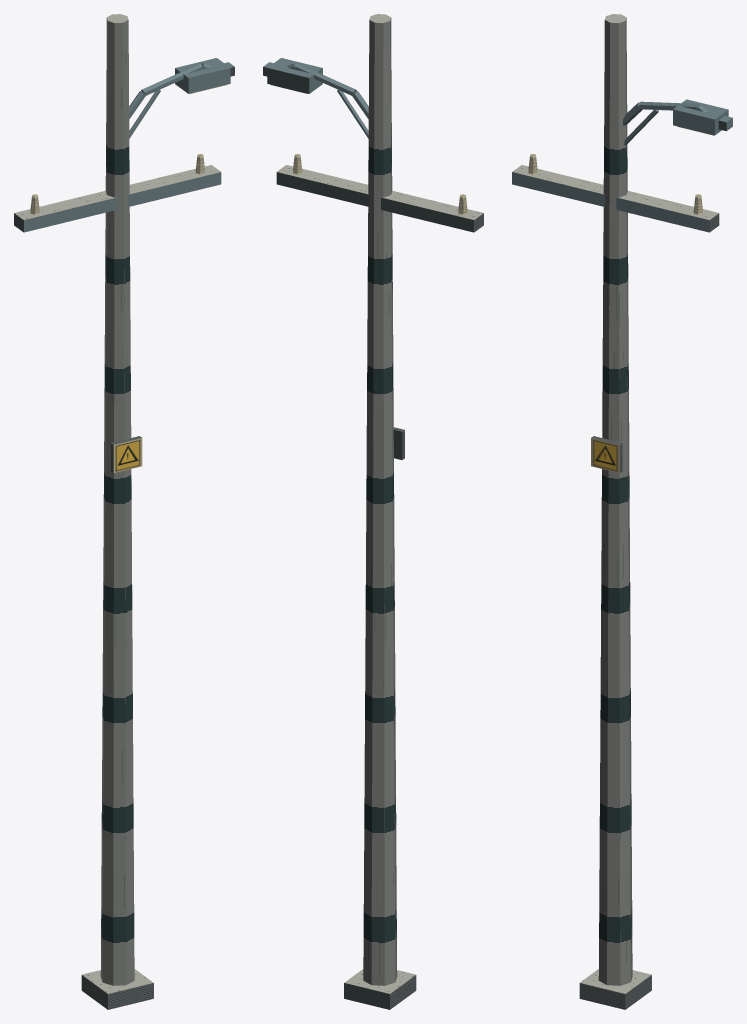
File: poste_luz_concreto.glb
The picture shows the model from 3 angles, left to right: view 1: azimuth 30°, elevation 25°; view 2: azimuth 150°, elevation 25°; view 3: azimuth 330°, elevation 25°; orthographic projection.
Visible parts, largest first — view 1: FH_PROP; view 2: FH_PROP; view 3: FH_PROP.
Part boxes in pixels (x1,y1,x2,y2): FH_PROP: [14, 14, 234, 1009]; FH_PROP: [263, 14, 483, 1009]; FH_PROP: [512, 14, 732, 1009].
Bounding box in the file's own units: 1.53 × 6.71 × 0.3292.
Materials: 1 (1 with a texture image).
